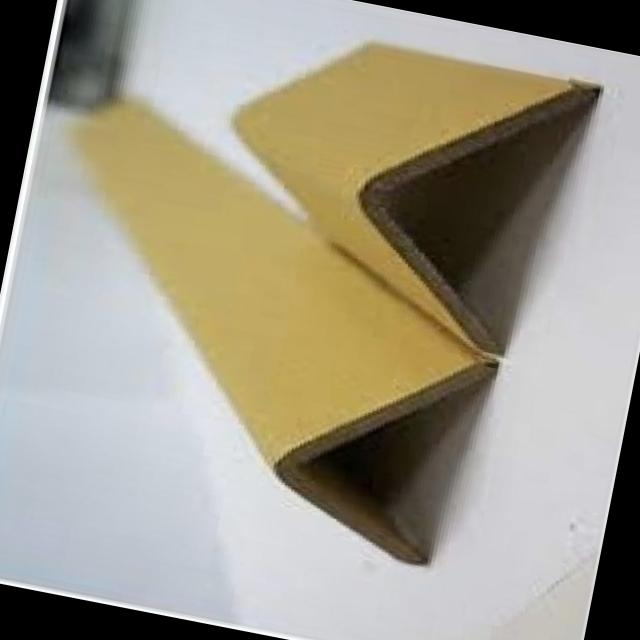cardboard paper: (70, 104, 492, 566), (231, 45, 595, 354)
